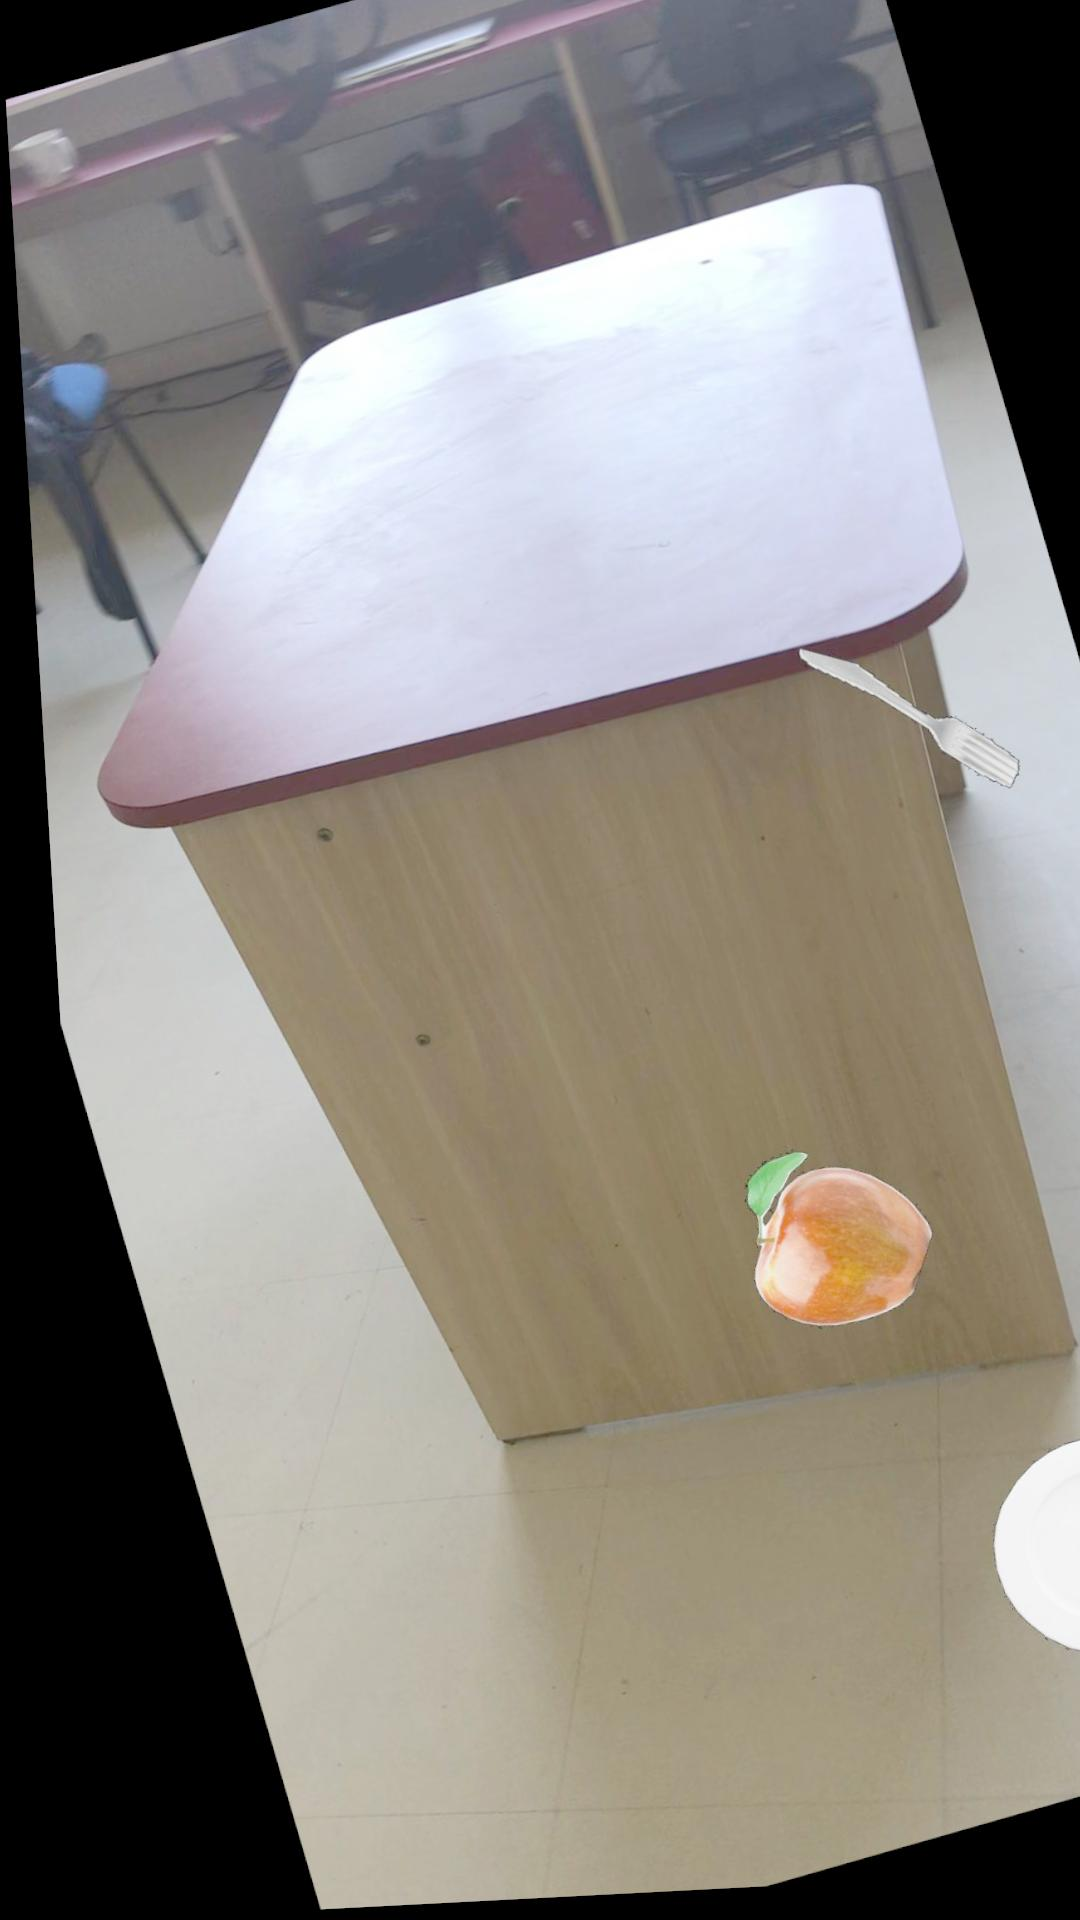apple: (728, 1158, 915, 1333)
fork: (787, 655, 1007, 798)
plate: (971, 1447, 1080, 1664)
